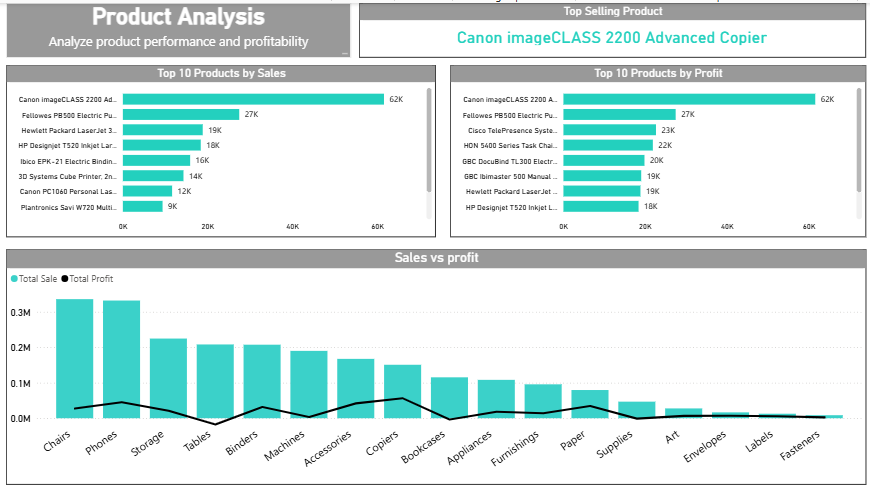

What the dashboard file says about the page in this screenshot:
{"tool":"powerbi","page":{"name":"Product Analysis","canvas":[1280,720],"ordinal":2},"visuals":[{"type":"textbox","title":"Product Analysis","box":[10.2,0,504.9,80.5],"z":0},{"type":"lineStackedColumnComboChart","title":"Sales vs profit","fields":{"Category":["Orders.Sub-Category"],"Y":["Orders.Total Sale"],"Y2":["Orders.Total Profit"]},"box":[10.2,360,1258.5,345.4],"z":1000},{"type":"clusteredBarChart","title":"Top 10 Products by Profit","fields":{"Category":["Orders.Product Name"],"Y":["Orders.Total Sale"]},"box":[660,90.7,608.8,251.7],"z":2000},{"type":"clusteredBarChart","title":"Top 10 Products by Sales","fields":{"Category":["Orders.Product Name"],"Y":["Orders.Total Sale"]},"box":[10.2,90.7,629.3,251.7],"z":3000},{"type":"cardVisual","title":"Top Selling Product","fields":{"Data":["Min(Orders.Product Name)"]},"box":[526.8,0,742,80.5],"z":4000}]}

Visuals, with their boxes in screenshot pixels (x1, y1, x2, y2), scaled from the page's 1280x720 canvas onto the 870x489 screenshot:
"Product Analysis" textbox: <box>7,0,350,55</box>
"Sales vs profit" lineStackedColumnComboChart: <box>7,244,862,479</box>
"Top 10 Products by Profit" clusteredBarChart: <box>449,62,862,233</box>
"Top 10 Products by Sales" clusteredBarChart: <box>7,62,435,233</box>
"Top Selling Product" cardVisual: <box>358,0,862,55</box>
